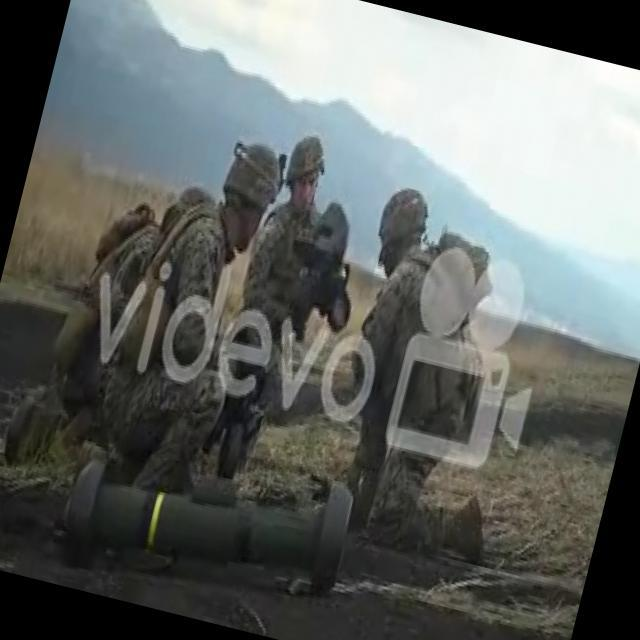rocket: (51, 422, 357, 622)
